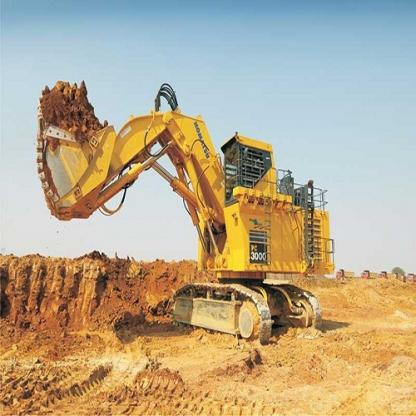excavator: (29, 63, 351, 358)
